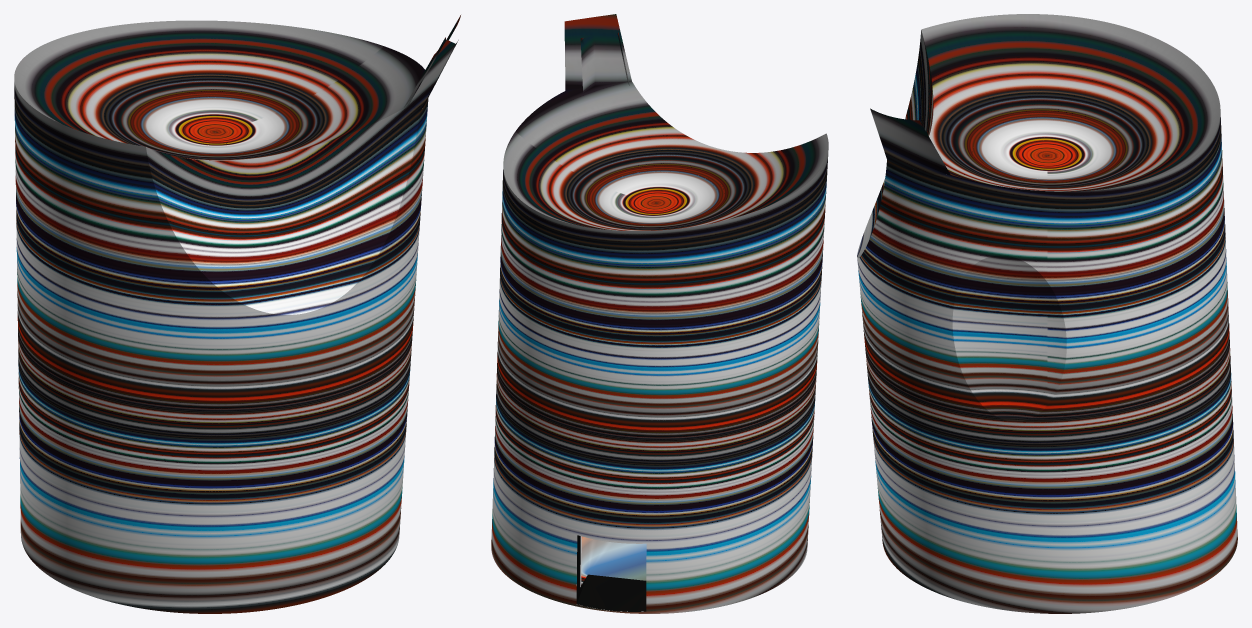
3 renders of one model, left to right at view 1: azimuth 30°, elevation 25°; view 2: azimuth 150°, elevation 25°; view 3: azimuth 270°, elevation 25°, orthographic. The views are drawn at different scales.
Parts seen in each view (by area): view 1: Solids; view 2: Solids, Solids_2, Frames; view 3: Solids.
Boxes of the visible parts, x1,y1,x2,y2 form: Solids: (14,15,460,613); Solids: (491,14,828,613); Solids_2: (580,32,646,585); Frames: (576,535,646,611); Solids: (857,14,1237,613).
Size of the model in its own units: 19.06 by 27.32 by 18.85.
3 materials, 3 textured.
